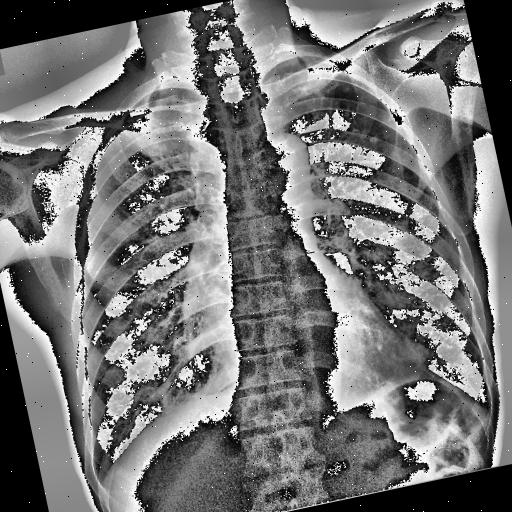0- Aortic enlargement: (248, 127, 315, 194)
11- Pleural thickening: (261, 52, 321, 80), (138, 90, 162, 104)
13- Pulmonary fibrosis: (303, 71, 392, 165), (312, 80, 384, 184), (116, 92, 192, 186), (119, 114, 188, 182), (335, 80, 381, 152)
8- Nodule-Mass: (366, 136, 376, 146)
